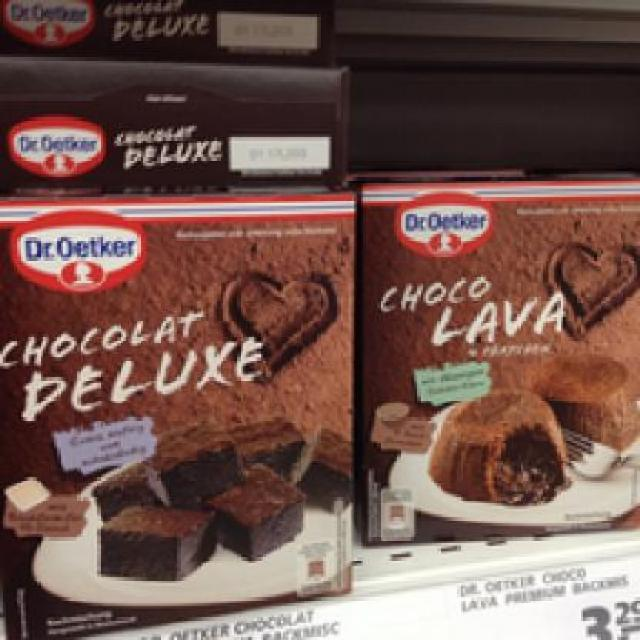Cake: (0, 181, 355, 638), (357, 176, 637, 550)
